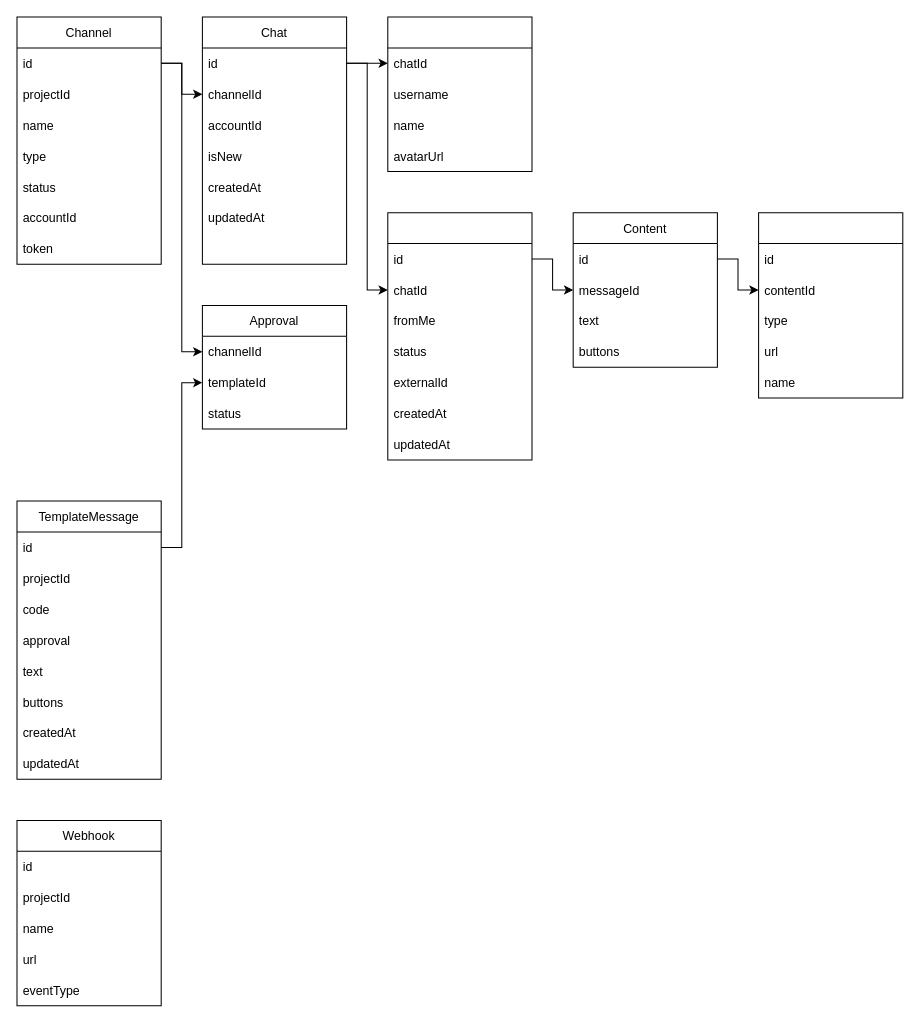
Image size: 920x1023. Some labels were removed from this diagram. Here are the shapes that lost their labels. From the top down, the box of each, then its label:
(387, 16, 532, 171): Contact
(758, 212, 903, 398): Attachment
(387, 212, 532, 460): Message
